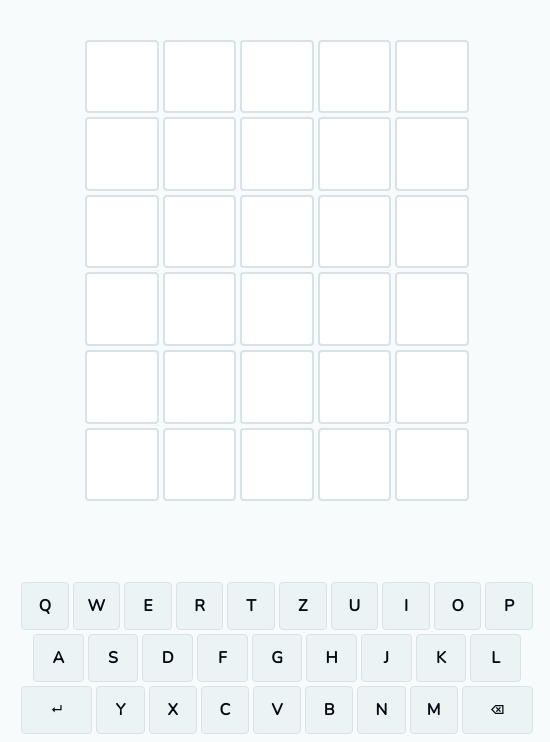
Test: WordleGame › flashes an error when submitting too few letters
Click the button named "Buchstabe A": (58, 658) [33, 634, 84, 682]
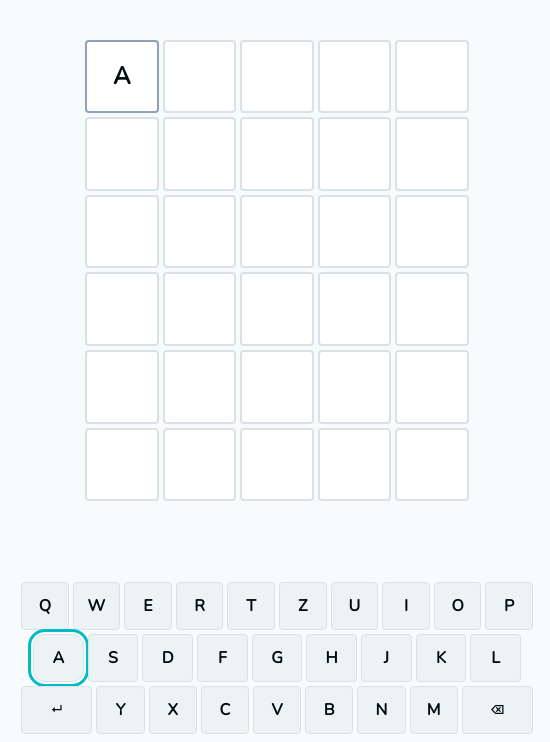
Click the button named "Eingabe absenden": (57, 710) [21, 686, 92, 734]
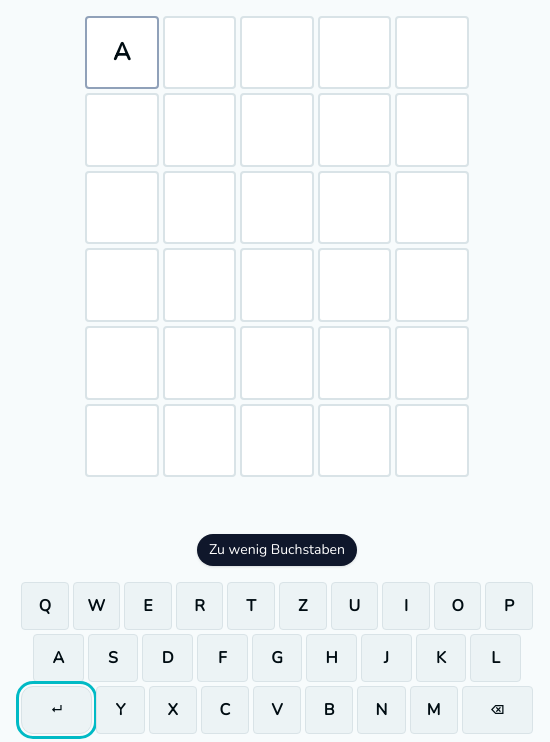
Expected: the text "Zu wenig Buchstaben" is shown, [197, 534, 357, 566]
